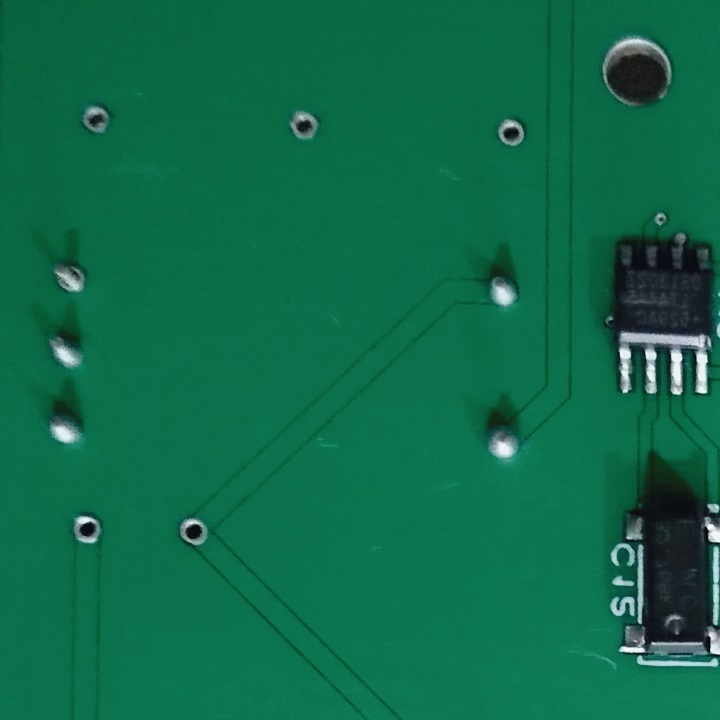F: (284, 103, 324, 151), (52, 260, 91, 300), (70, 510, 107, 549), (176, 515, 213, 551), (79, 101, 114, 139), (495, 117, 528, 151)
